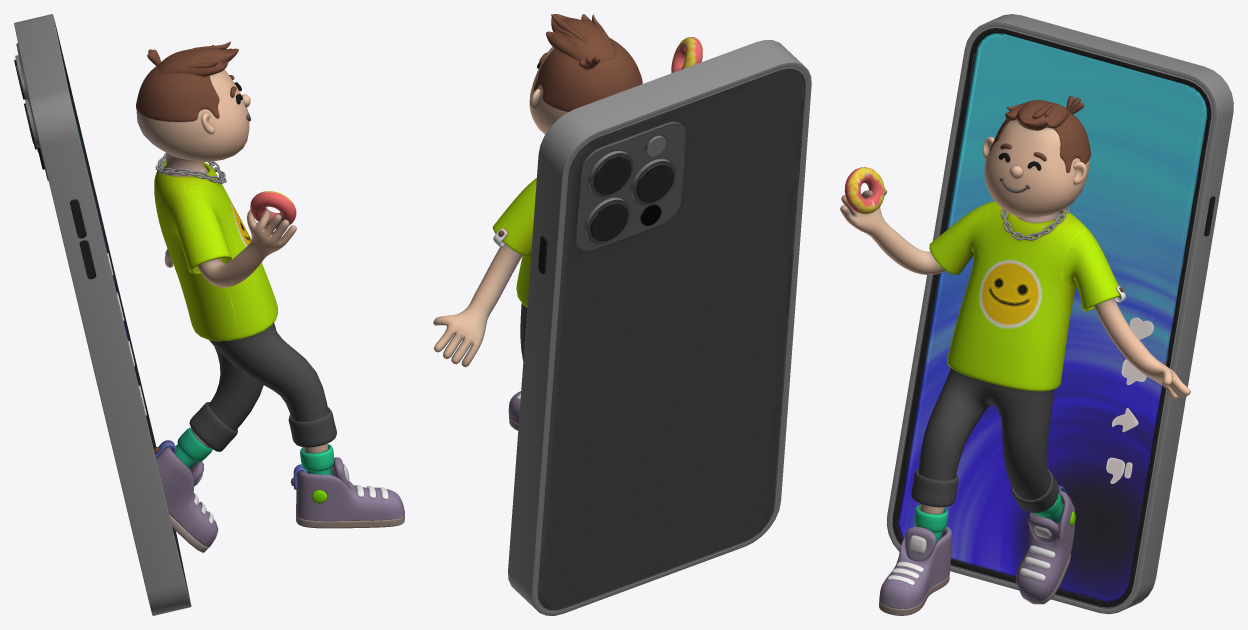
Rendered from content.glb.
The picture shows the model from 3 angles, left to right: view 1: azimuth 30°, elevation 25°; view 2: azimuth 150°, elevation 25°; view 3: azimuth 270°, elevation 25°; orthographic projection. The views are drawn at different scales.
Visible parts, largest first — view 1: Boy_base.001; view 2: Boy_base.001; view 3: Boy_base.001.
Boxes of the visible parts, box(x1,y1,x2,y2) form: Boy_base.001: box(14, 14, 404, 615); Boy_base.001: box(433, 14, 811, 615); Boy_base.001: box(840, 14, 1233, 615).
Size of the model in its own units: 0.6172 by 0.9603 by 0.6559.
Materials: 3 (2 with a texture image).
